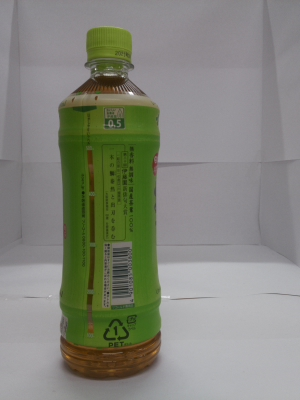hey_tea: (42, 16, 173, 386)
